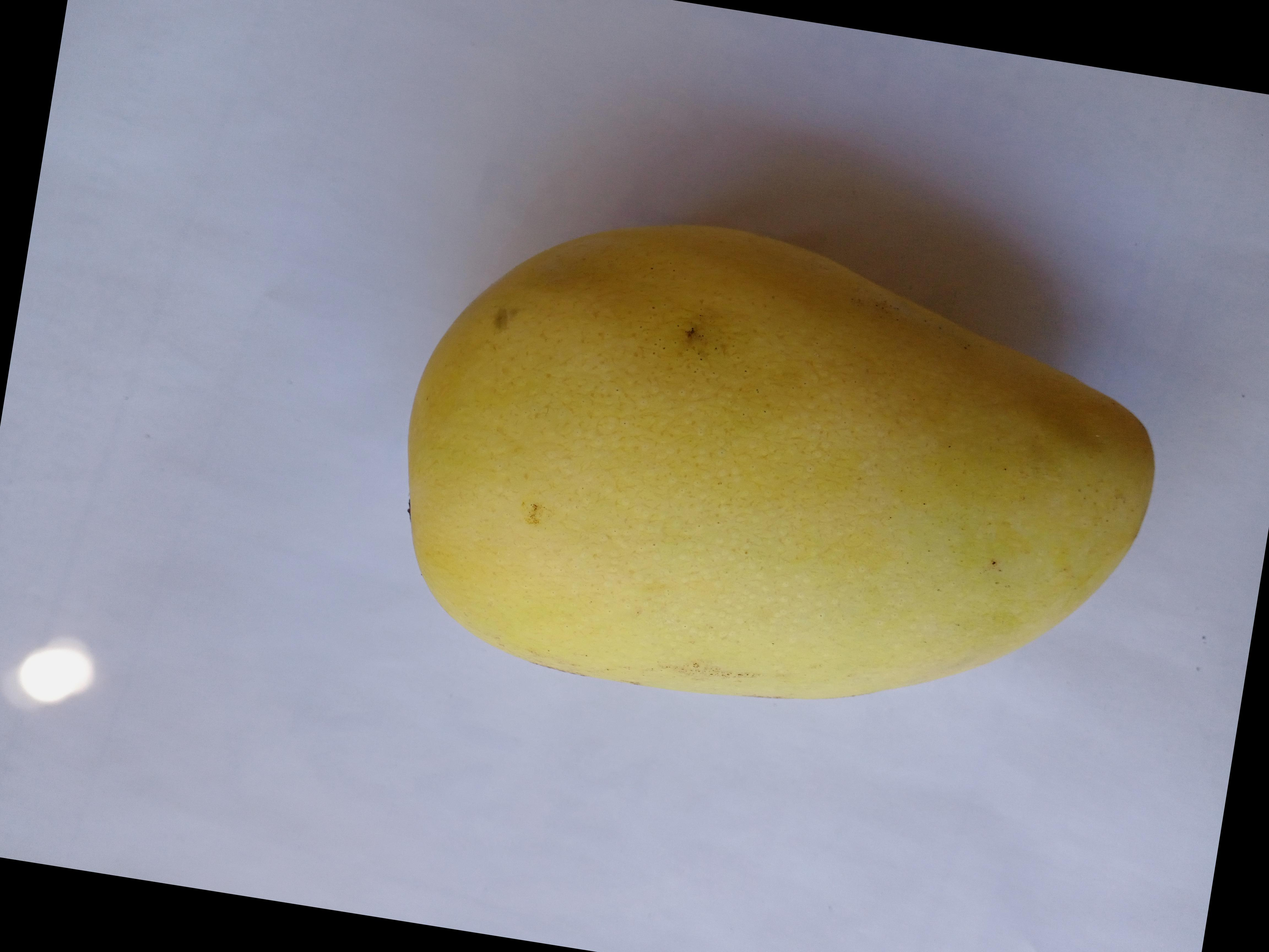Mango Ripe: (417, 29, 1269, 670)
